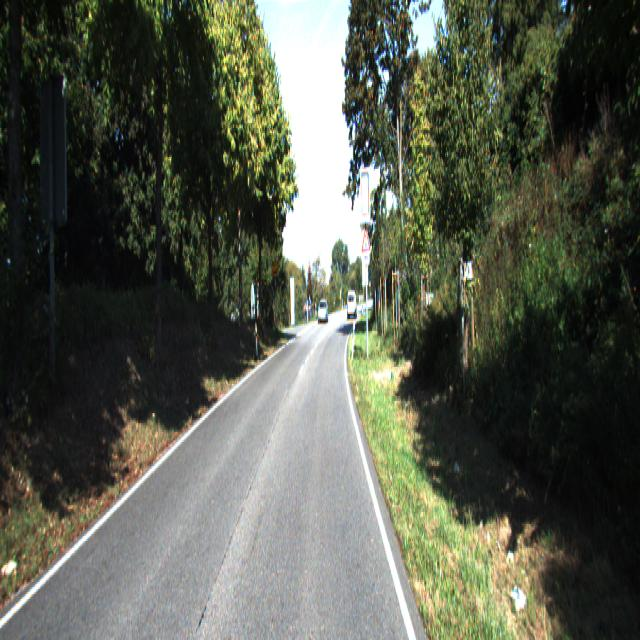Car: (318, 298, 329, 322)
